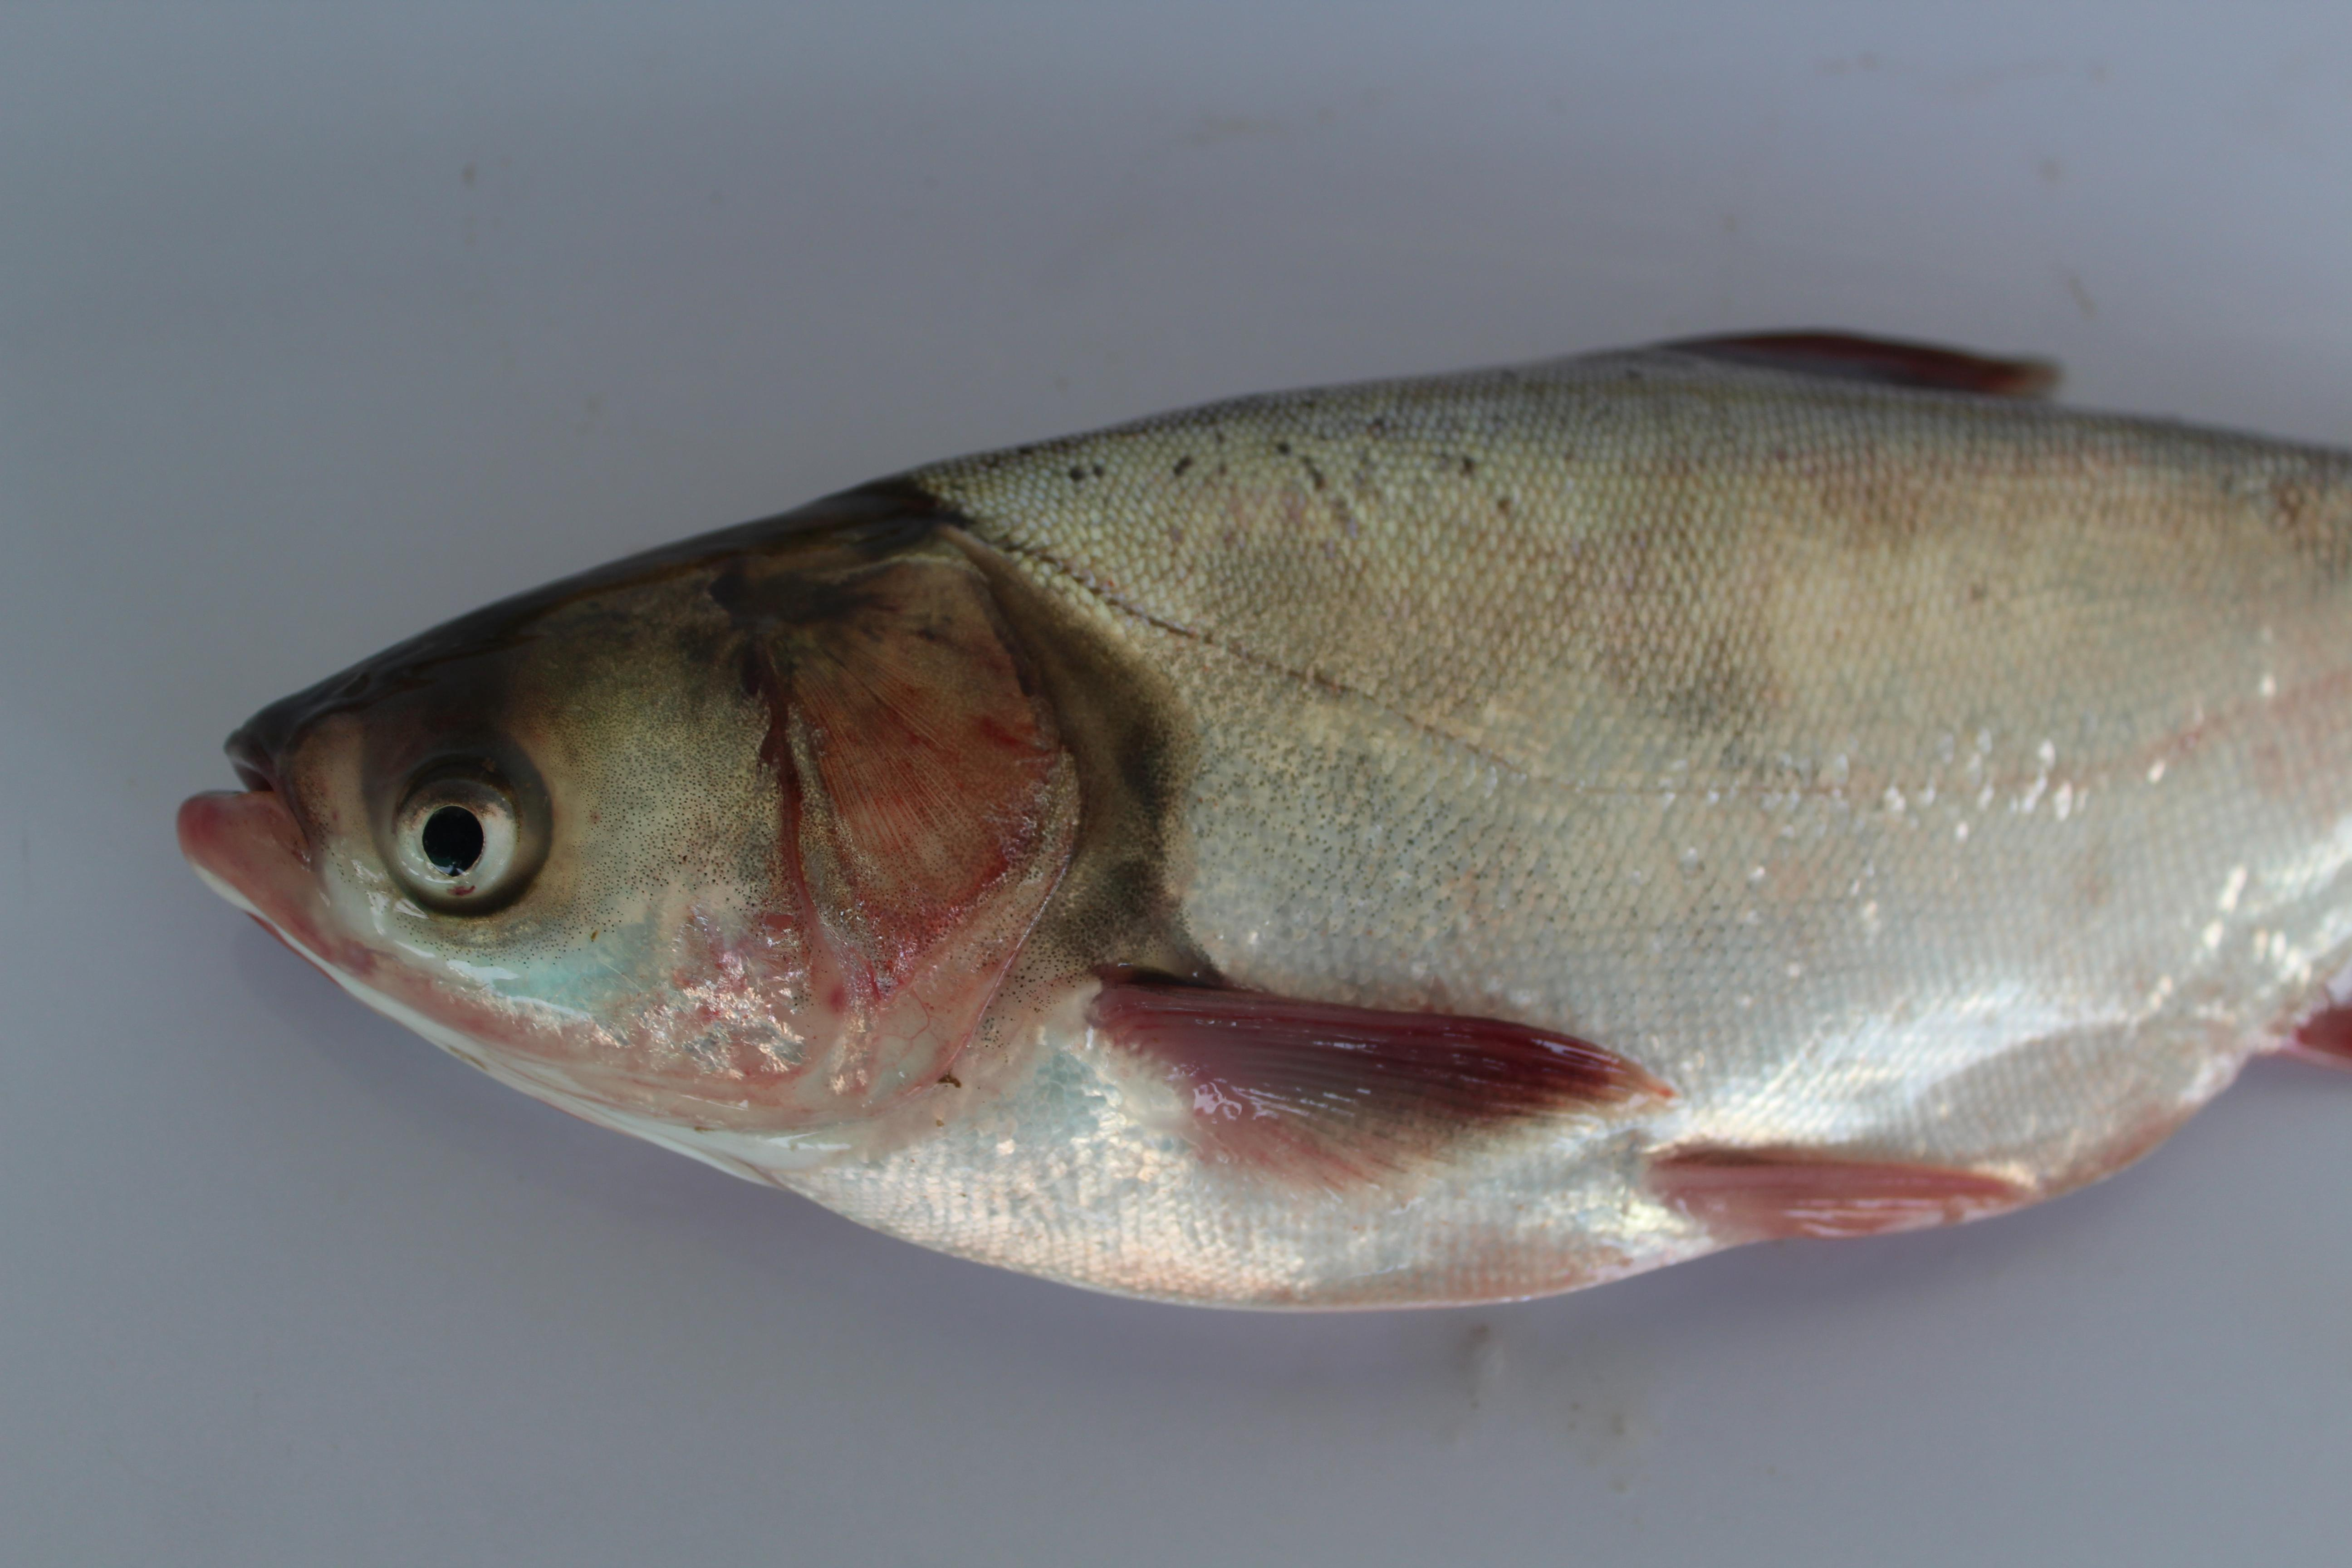Silver Carp: (173, 331, 2352, 1319)
